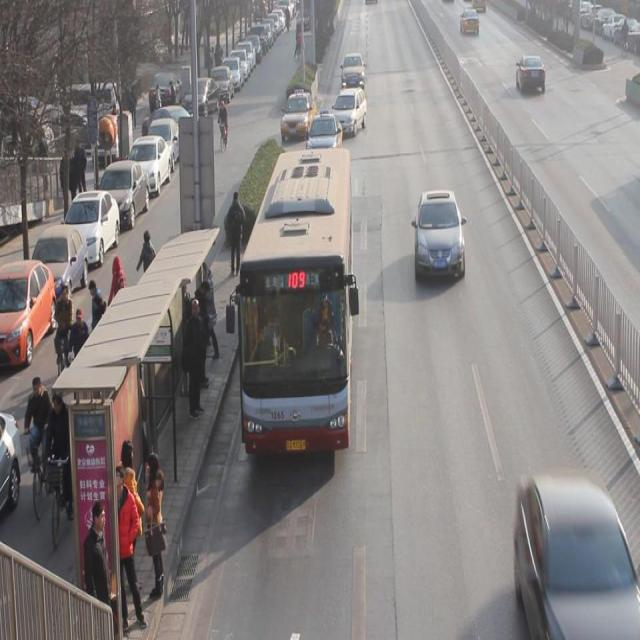car: (514, 464, 640, 640), (414, 190, 466, 280), (332, 86, 368, 138), (282, 90, 318, 140), (307, 109, 343, 154), (515, 54, 546, 92), (342, 54, 365, 86), (461, 1, 479, 36)
van: (238, 149, 349, 450)
